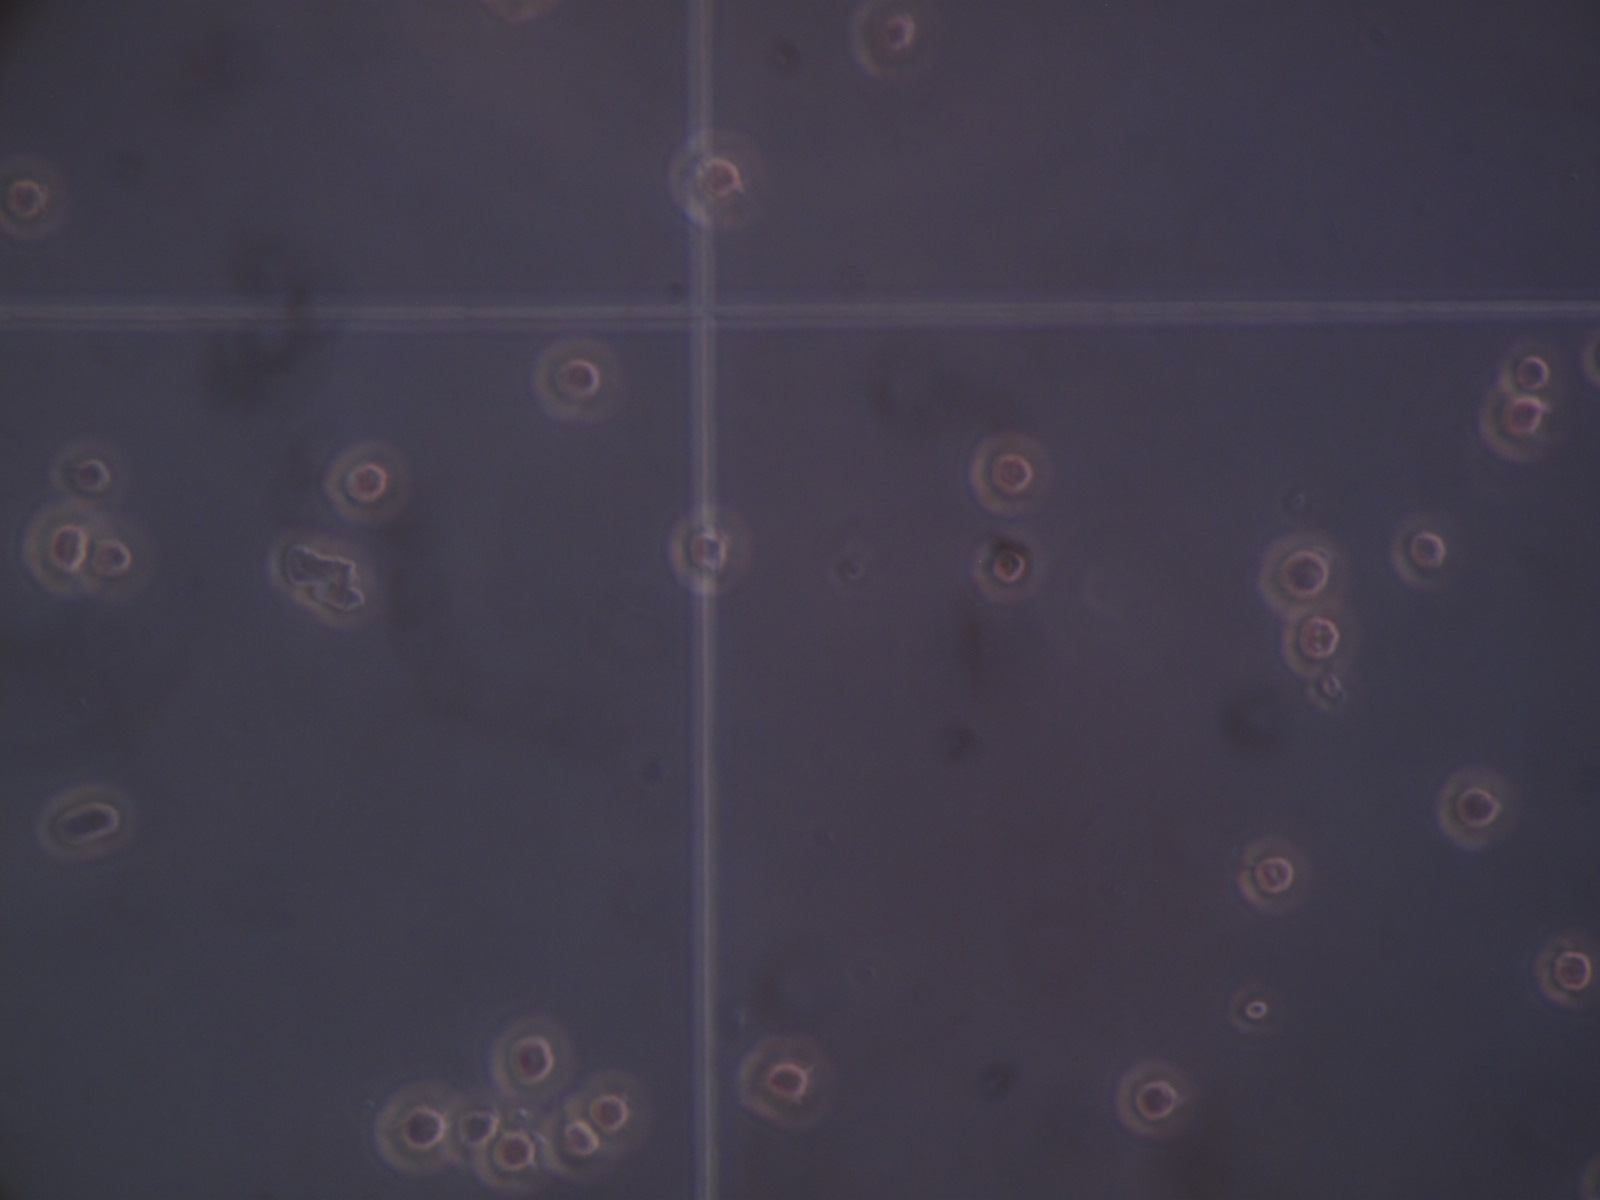hemo: (666, 125, 771, 229), (737, 1032, 839, 1129), (665, 502, 753, 595), (532, 337, 624, 424), (1259, 527, 1349, 614), (377, 1082, 460, 1174), (20, 502, 100, 596), (39, 787, 139, 861), (323, 439, 407, 526), (852, 1, 940, 82), (1436, 766, 1519, 850), (970, 434, 1052, 517), (488, 1018, 572, 1098), (574, 1073, 654, 1155), (1238, 834, 1315, 915), (1117, 1058, 1193, 1137), (84, 514, 155, 597), (267, 529, 365, 589), (1, 155, 67, 243), (49, 437, 132, 505), (1479, 382, 1547, 464), (973, 527, 1046, 603), (1281, 605, 1357, 676), (472, 1122, 546, 1192), (1534, 934, 1600, 1008), (1390, 513, 1449, 592), (443, 1090, 505, 1165), (1498, 339, 1565, 403), (546, 1111, 609, 1179), (290, 581, 372, 626), (1228, 979, 1272, 1037), (1306, 668, 1351, 715)
